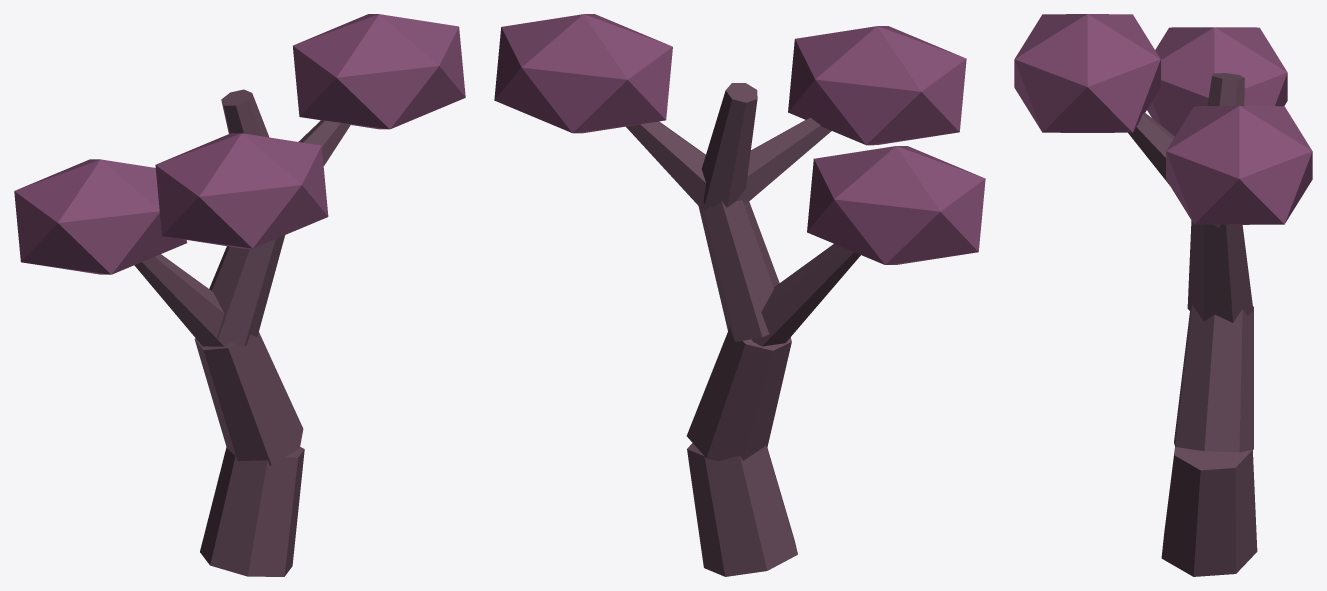
File: pg_tree.fbx
The picture shows the model from 3 angles, left to right: view 1: azimuth 30°, elevation 25°; view 2: azimuth 150°, elevation 25°; view 3: azimuth 270°, elevation 25°; orthographic projection. The views are drawn at different scales.
Visible parts, largest first — view 1: GEO-TreeCanopy.002, GEO-TreeCanopy.001, GEO-TreeCanopy, GEO-TreeTrunk, GEO-TreeTrunk.001, GEO-TreeTrunk.002, GEO-TreeBranch, GEO-TreeTrunk.003, GEO-TreeBranch.001; view 2: GEO-TreeCanopy.001, GEO-TreeCanopy, GEO-TreeCanopy.002, GEO-TreeTrunk, GEO-TreeTrunk.001, GEO-TreeTrunk.002, GEO-TreeTrunk.003, GEO-TreeBranch, GEO-TreeBranch.002, GEO-TreeBranch.001; view 3: GEO-TreeCanopy.001, GEO-TreeCanopy.002, GEO-TreeTrunk, GEO-TreeTrunk.001, GEO-TreeCanopy, GEO-TreeTrunk.002, GEO-TreeBranch.002, GEO-TreeTrunk.003.
Part boxes in pixels (bbox=[...]): GEO-TreeCanopy.002: bbox=[155, 133, 328, 248]; GEO-TreeCanopy.001: bbox=[293, 14, 465, 129]; GEO-TreeCanopy: bbox=[14, 159, 187, 274]; GEO-TreeTrunk: bbox=[200, 447, 304, 576]; GEO-TreeTrunk.001: bbox=[194, 332, 303, 465]; GEO-TreeTrunk.002: bbox=[209, 235, 285, 345]; GEO-TreeBranch: bbox=[134, 254, 230, 346]; GEO-TreeTrunk.003: bbox=[221, 89, 269, 137]; GEO-TreeBranch.001: bbox=[298, 120, 350, 165]; GEO-TreeCanopy.001: bbox=[494, 14, 672, 133]; GEO-TreeCanopy: bbox=[807, 146, 985, 264]; GEO-TreeCanopy.002: bbox=[788, 26, 966, 145]; GEO-TreeTrunk: bbox=[687, 443, 797, 576]; GEO-TreeTrunk.001: bbox=[686, 327, 791, 461]; GEO-TreeTrunk.002: bbox=[698, 200, 779, 341]; GEO-TreeTrunk.003: bbox=[701, 83, 757, 207]; GEO-TreeBranch: bbox=[751, 244, 860, 346]; GEO-TreeBranch.002: bbox=[736, 117, 831, 204]; GEO-TreeBranch.001: bbox=[626, 121, 709, 211]; GEO-TreeCanopy.001: bbox=[1166, 106, 1312, 224]; GEO-TreeCanopy.002: bbox=[1014, 14, 1160, 132]; GEO-TreeTrunk: bbox=[1161, 447, 1257, 576]; GEO-TreeTrunk.001: bbox=[1174, 305, 1253, 452]; GEO-TreeCanopy: bbox=[1147, 27, 1287, 136]; GEO-TreeTrunk.002: bbox=[1187, 220, 1253, 322]; GEO-TreeBranch.002: bbox=[1128, 113, 1174, 185]; GEO-TreeTrunk.003: bbox=[1207, 73, 1244, 105].
Size of the model in its own units: 237 by 256 by 132.
